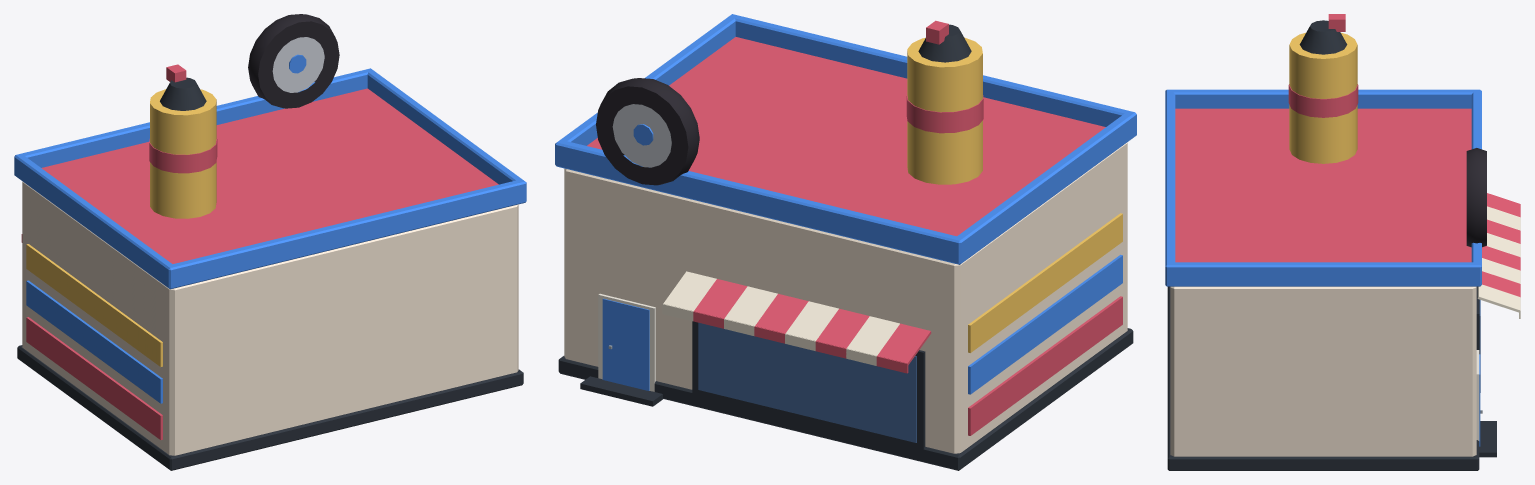
Rendered from bld_shop.glb.
The picture shows the model from 3 angles, left to right: view 1: azimuth 30°, elevation 25°; view 2: azimuth 150°, elevation 25°; view 3: azimuth 270°, elevation 25°; orthographic projection. The views are drawn at different scales.
Parts seen in each view (by area): view 1: bld_shop; view 2: bld_shop; view 3: bld_shop.
Boxes of the visible parts, x1,y1,x2,y2 form: bld_shop: (14, 14, 526, 470); bld_shop: (555, 14, 1136, 470); bld_shop: (1165, 14, 1520, 470).
Size of the model in its own units: 12.3 by 10.58 by 10.45.
